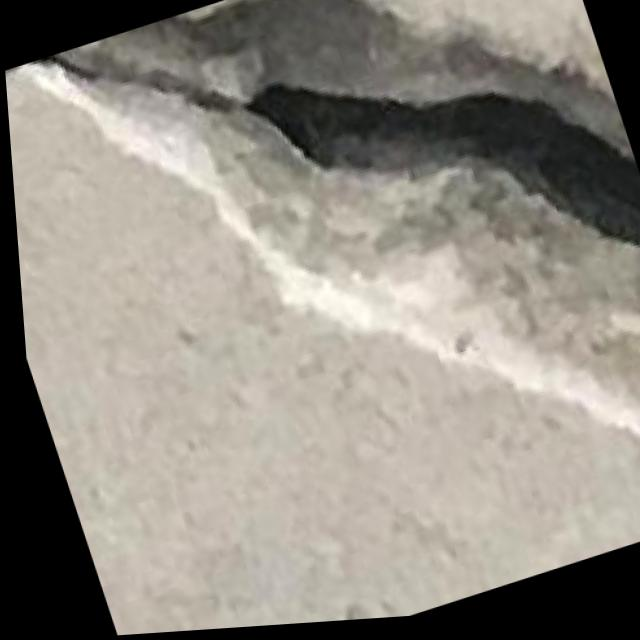Crack: (23, 0, 640, 632)
